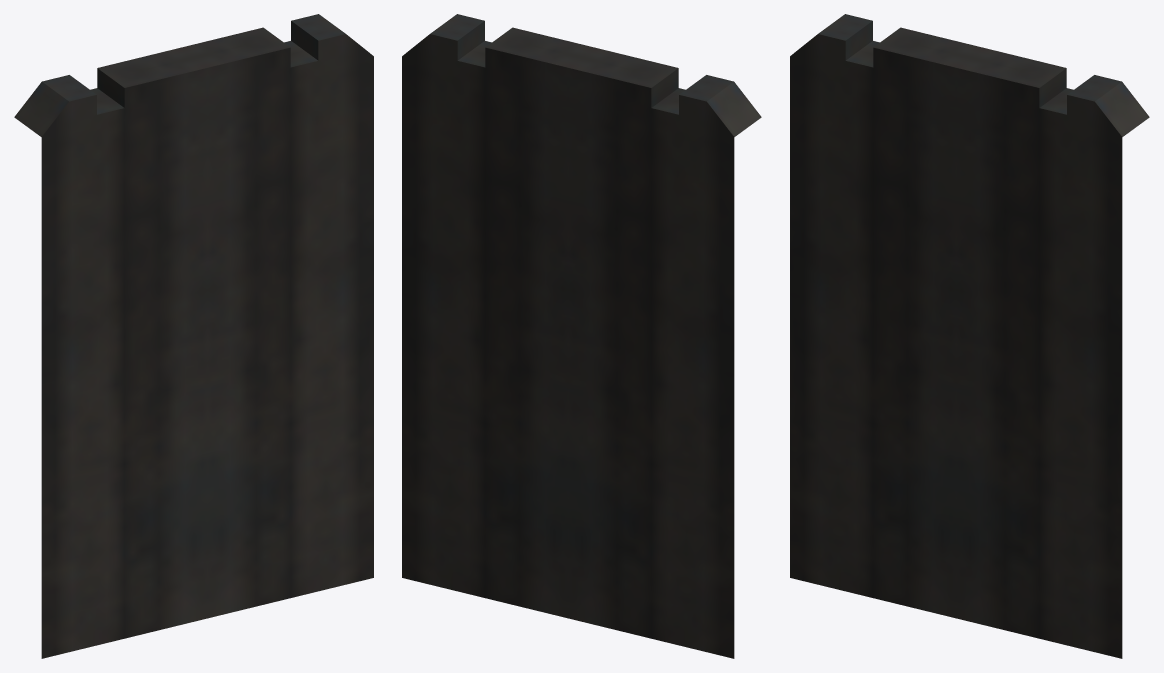
File: grave_powered_doorway_door.glb
The picture shows the model from 3 angles, left to right: view 1: azimuth 30°, elevation 25°; view 2: azimuth 150°, elevation 25°; view 3: azimuth 330°, elevation 25°; orthographic projection.
Parts seen in each view (by area): view 1: powered_doorway_door; view 2: powered_doorway_door; view 3: powered_doorway_door.
Part boxes in pixels (x1=…): powered_doorway_door: x1=14, y1=14, x2=373, y2=658; powered_doorway_door: x1=402, y1=14, x2=761, y2=658; powered_doorway_door: x1=790, y1=14, x2=1149, y2=658.
Size of what is drawn, in the model's own units: 1.2 by 1.9 by 0.1711.
Materials: 1 (1 with a texture image).
